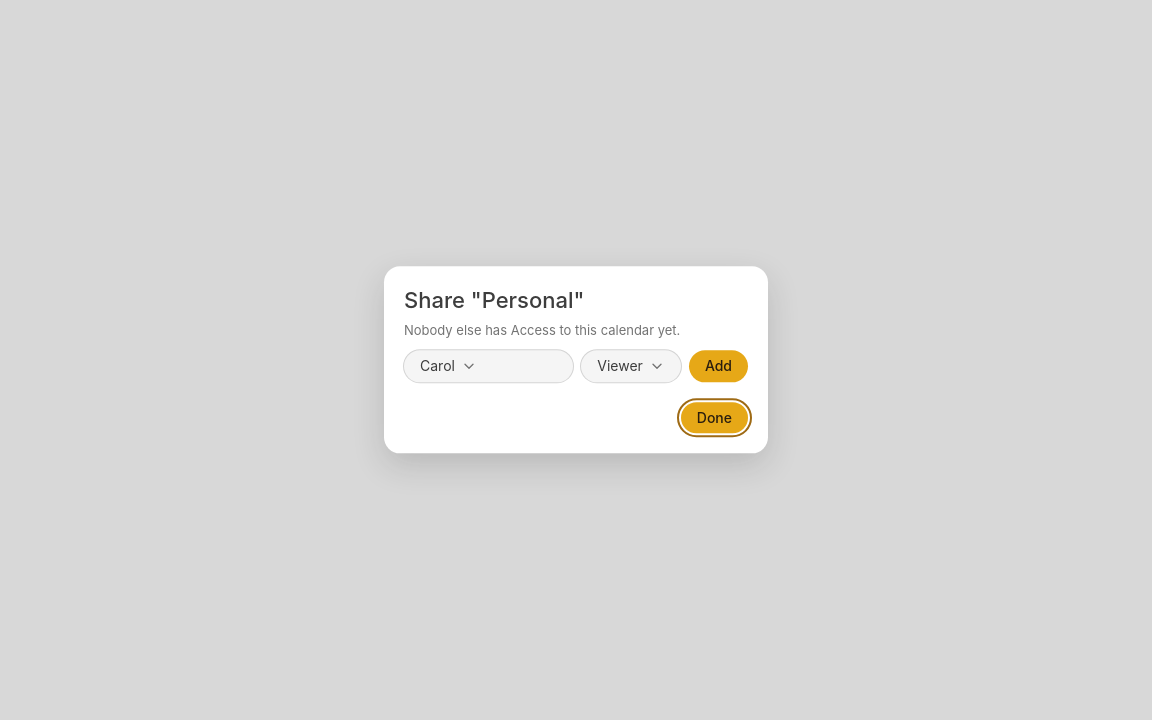
Test: ShareCalendarModal writes › appends a granted Share to the roster and drops it from the picker
The width and height of the screenshot is (1152, 720).
Click the button "Add" at (718, 366), box [689,350,748,382]
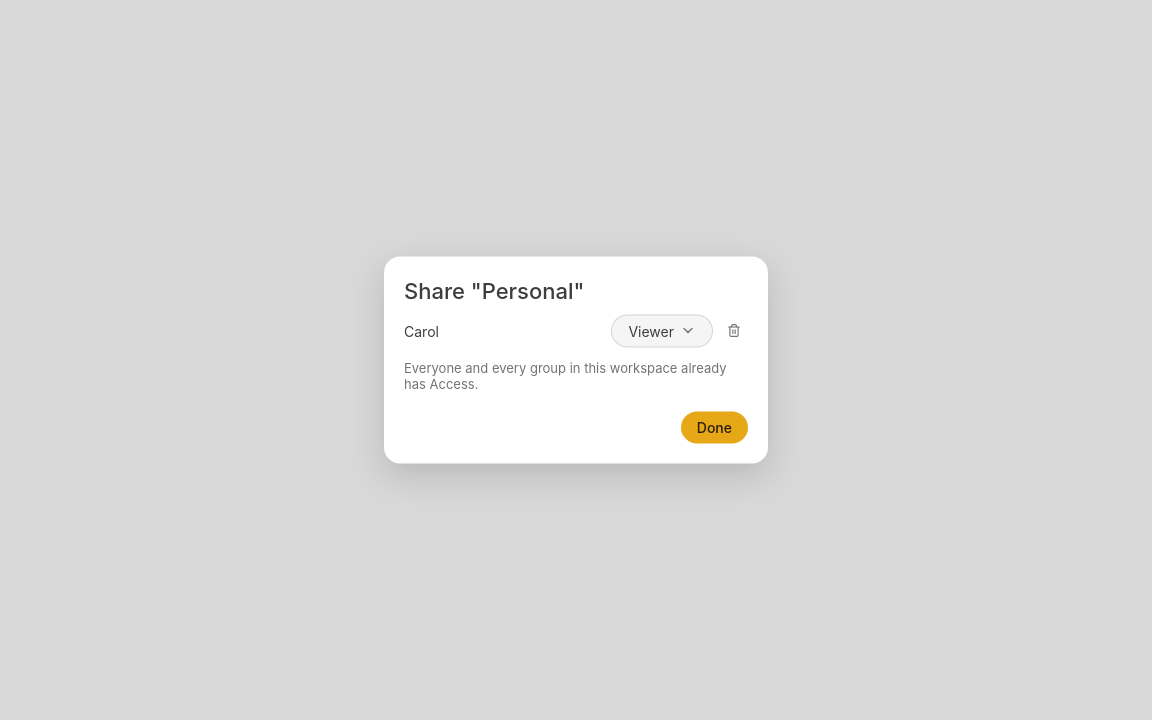
Expected: the text "Carol" is shown, [404,322,439,339]
Now the text "Everyone and every group in this workspace already has Access." is shown, box [404,361,748,392]
